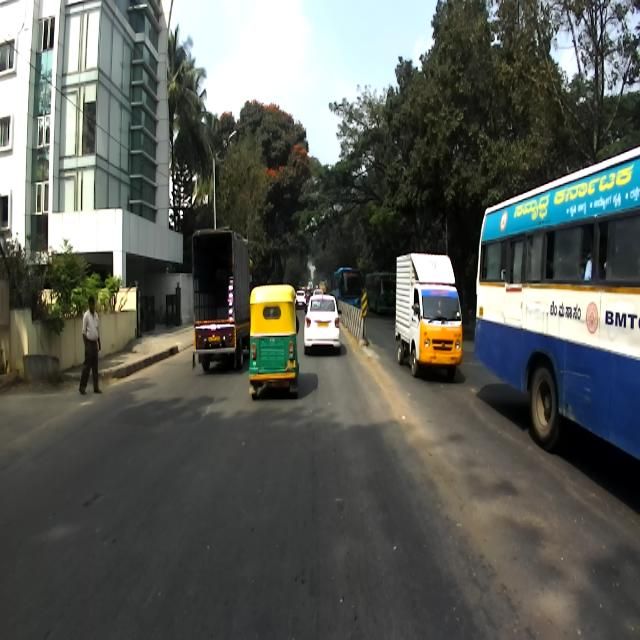auto ahead at: (247, 284, 300, 398)
car ahead at: (392, 251, 464, 377), (303, 290, 340, 350)
person ahead at: (77, 292, 105, 401)
truck ahead at: (182, 221, 245, 385)
